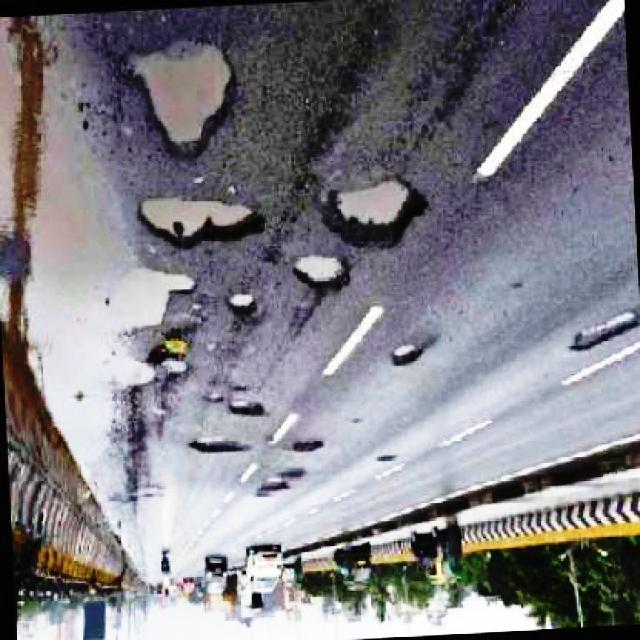pothole: (122, 37, 245, 165), (318, 180, 431, 251), (103, 258, 200, 336), (137, 189, 268, 245), (571, 303, 638, 360), (114, 352, 189, 390), (291, 249, 358, 291), (258, 462, 311, 500), (189, 432, 246, 456), (226, 391, 268, 422), (224, 289, 264, 320), (392, 336, 425, 370), (289, 431, 323, 454)
